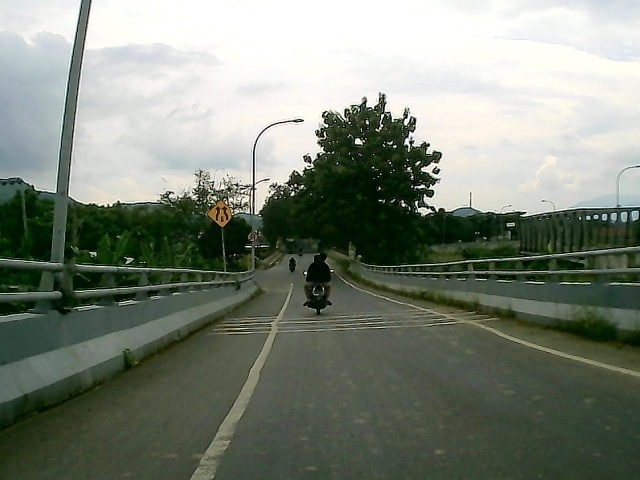Akhir bangunan pemisah satu arah: (206, 199, 236, 228)
Dilarang berbalik arah: (246, 231, 259, 243)
